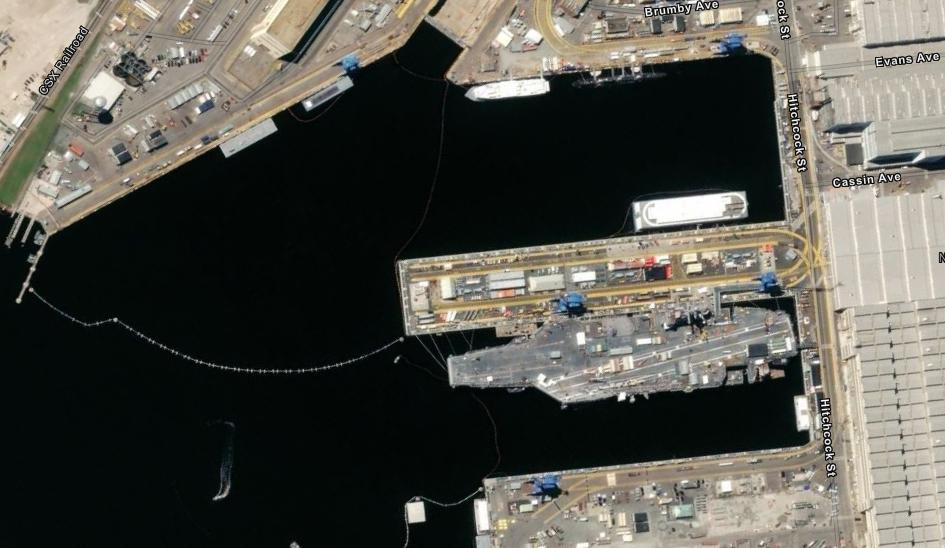carrier: (440, 293, 799, 408)
submarine: (572, 68, 670, 92)
